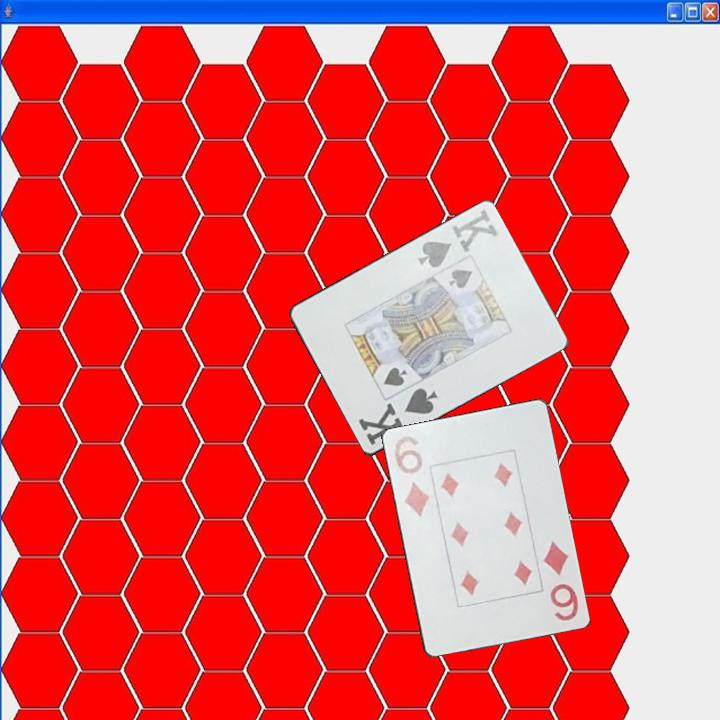6d: (390, 431, 432, 519), (539, 537, 581, 624)
Ks: (354, 384, 441, 449), (415, 206, 501, 271)
